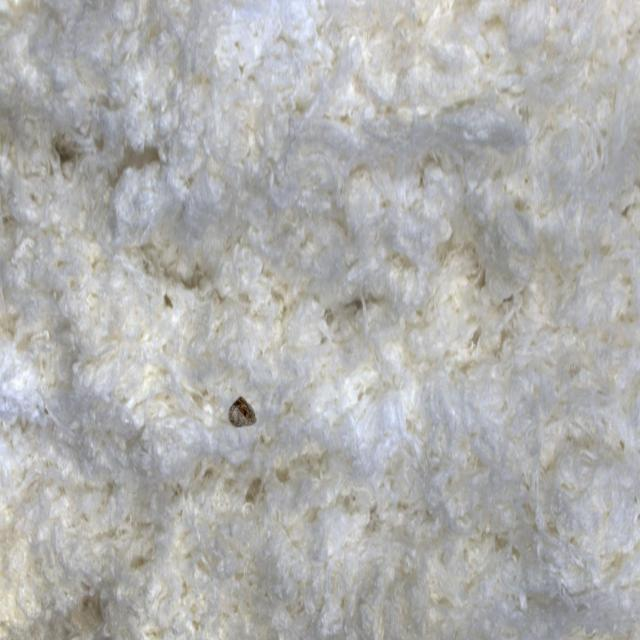dust: (202, 352, 286, 467)
